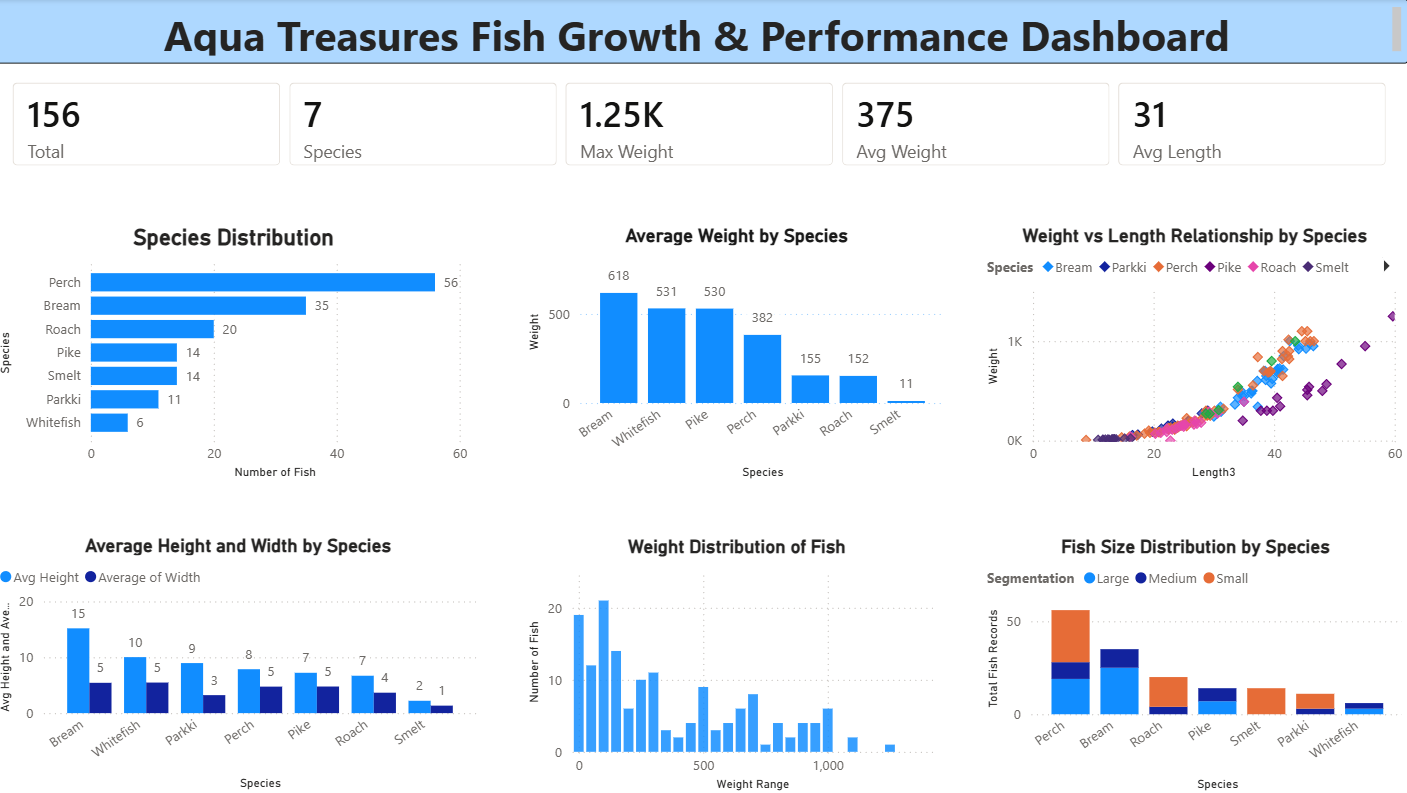

The dashboard page shown, as its layout file describes it:
{"tool":"powerbi","page":{"name":"Page 1","canvas":[1280,720],"ordinal":0},"visuals":[{"type":"textbox","box":[0,0,1279.9,58.8],"z":0},{"type":"cardVisual","fields":{"Data":["Table.Total Fish Records","Table.Number of Species","Table.Maximum Weight","Table.Average Weight","Table.Average Length3"]},"box":[0,58.8,1279.9,109.7],"z":1000},{"type":"lineStackedColumnComboChart","title":"Average Weight by Species","fields":{"Category":["fish_data_processed.Species"],"Y":["Avg(fish_data_processed.Weight)"]},"box":[478.2,203.8,387.2,235.9],"z":2000},{"type":"clusteredBarChart","title":"Species Distribution","fields":{"Category":["fish_data_processed.Species"],"Y":["CountNonNull(fish_data_processed.Species)"]},"box":[0,203.8,433.3,235.9],"z":3000},{"type":"scatterChart","title":"Weight vs Length Relationship by Species","fields":{"X":["fish_data_processed.Length3"],"Y":["fish_data_processed.Weight"],"Series":["fish_data_processed.Species"]},"box":[893.6,203.8,385.9,235.9],"z":4000},{"type":"clusteredColumnChart","title":"Average Height and Width by Species","fields":{"Category":["fish_data_processed.Species"],"Y":["Avg(fish_data_processed.Height)","Avg(fish_data_processed.Width)"]},"box":[0,484.4,441.9,236],"z":5000},{"type":"clusteredColumnChart","title":"Weight Distribution of Fish","fields":{"Category":["fish_data_processed.Weight (bins)"],"Y":["CountNonNull(fish_data_processed.Weight)"]},"box":[478.2,484.6,387.2,235.9],"z":6000},{"type":"columnChart","title":"Fish Size Distribution by Species","fields":{"Category":["fish_data_processed.Species"],"Series":["fish_data_processed.Segmentation"],"Y":["Table.Total Fish Records"]},"box":[893.6,484.6,387.2,235.9],"z":7000},{"type":"actionButton","box":[0,0,200,50],"z":7001}]}

Visuals, with their boxes in screenshot pixels (x1, y1, x2, y2), scaled from the page's 1280x720 canvas onto the 1407x793 screenshot:
textbox: [left=0, top=0, right=1406, bottom=65]
cardVisual - Table.Total Fish Records x Table.Number of Species: [left=0, top=65, right=1406, bottom=186]
"Average Weight by Species" lineStackedColumnComboChart: [left=526, top=224, right=951, bottom=484]
"Species Distribution" clusteredBarChart: [left=0, top=224, right=476, bottom=484]
"Weight vs Length Relationship by Species" scatterChart: [left=982, top=224, right=1406, bottom=484]
"Average Height and Width by Species" clusteredColumnChart: [left=0, top=534, right=486, bottom=792]
"Weight Distribution of Fish" clusteredColumnChart: [left=526, top=534, right=951, bottom=792]
"Fish Size Distribution by Species" columnChart: [left=982, top=534, right=1406, bottom=792]
actionButton: [left=0, top=0, right=220, bottom=55]
